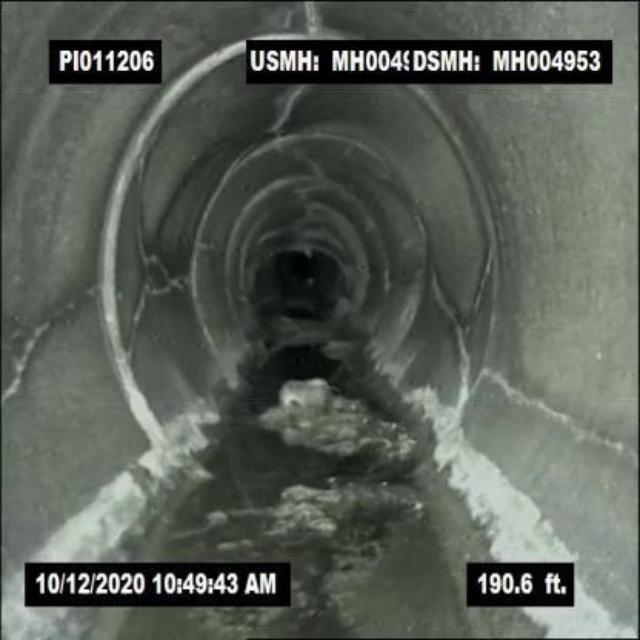Crack: (486, 358, 635, 455), (9, 286, 102, 398), (435, 274, 483, 363), (131, 175, 151, 368), (297, 3, 326, 35)
Debris: (277, 375, 334, 426)
